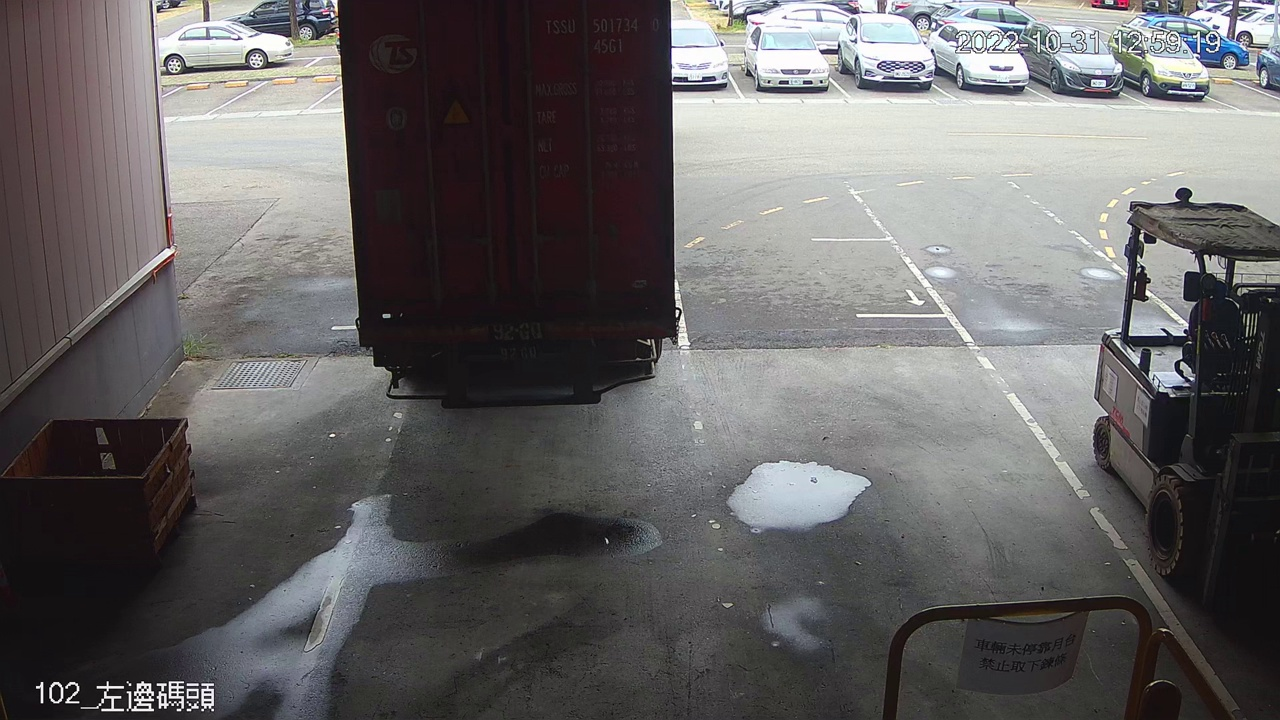container: (535, 12, 666, 61)
